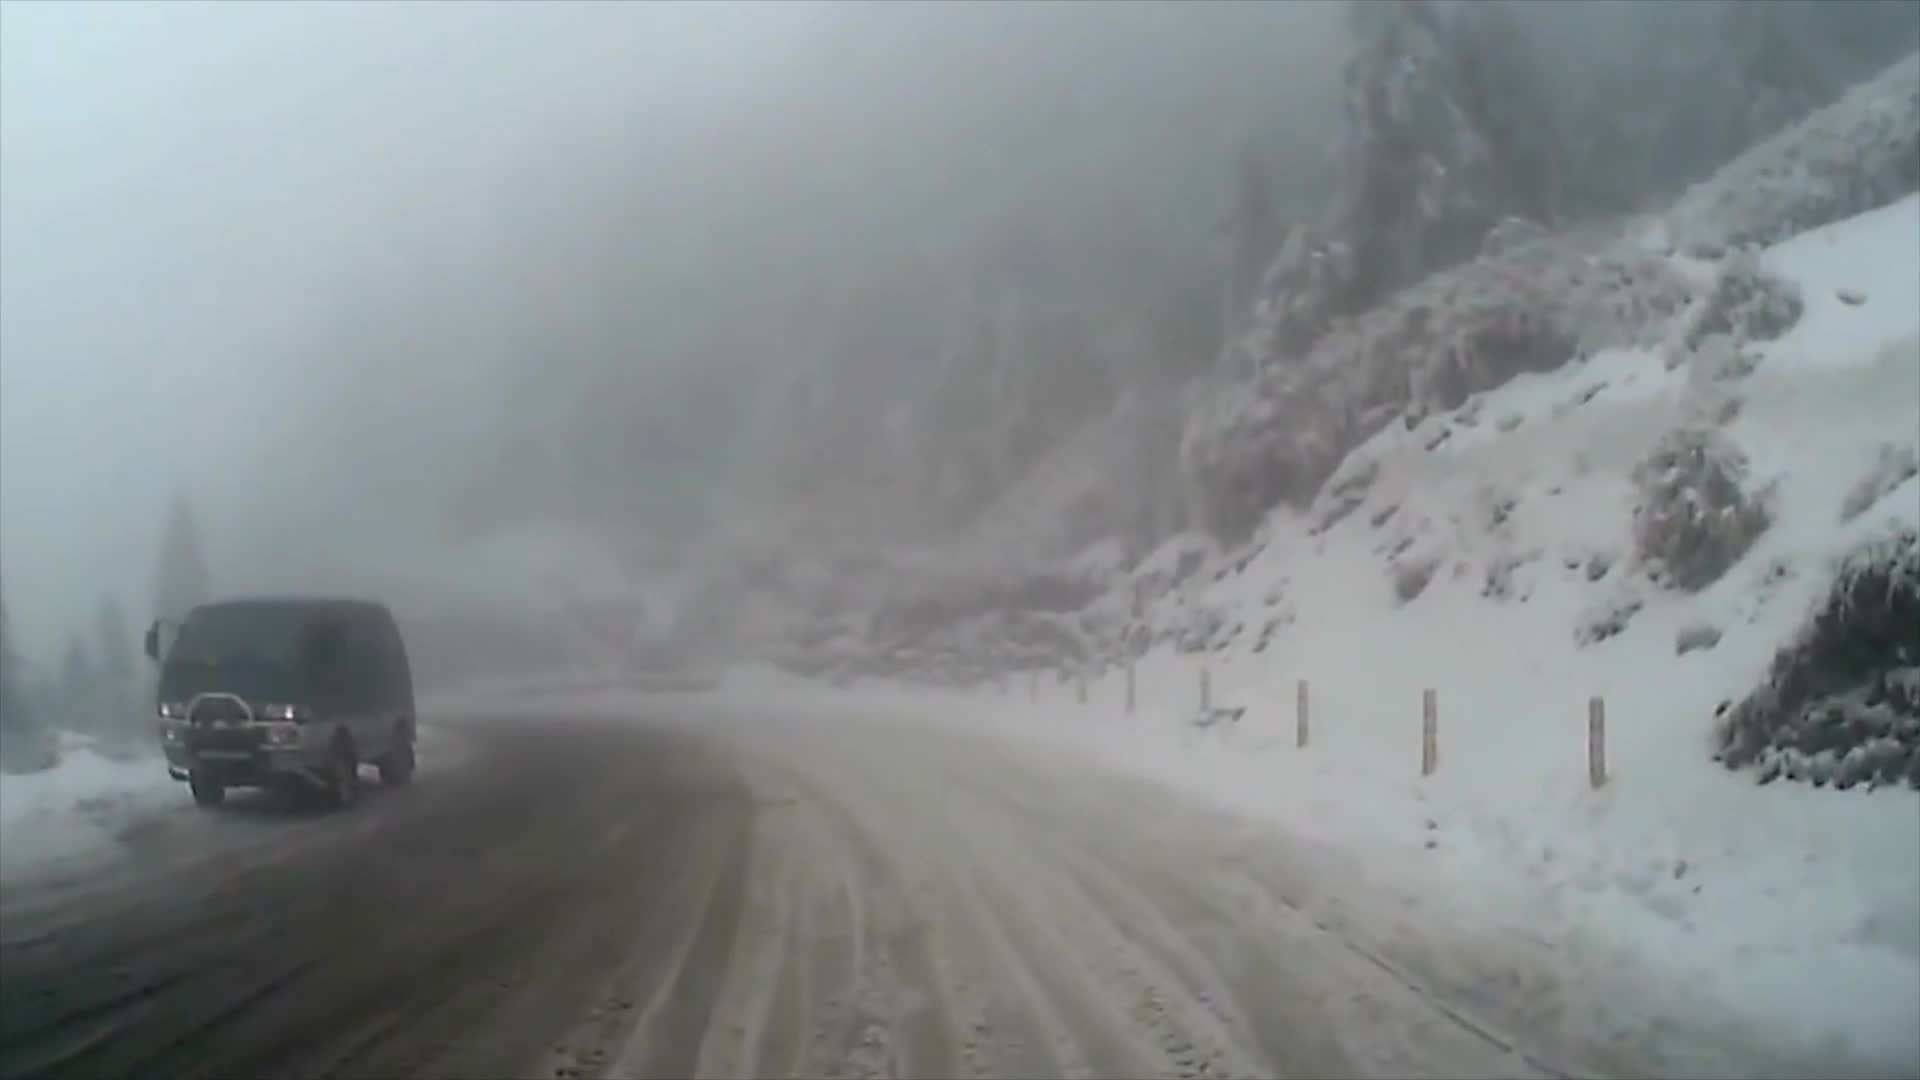vehicle: (141, 596, 417, 815)
